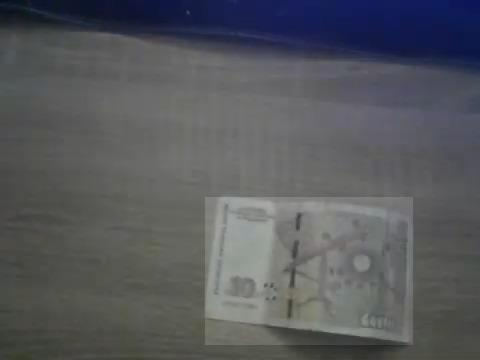10leva: (205, 197, 413, 345)
